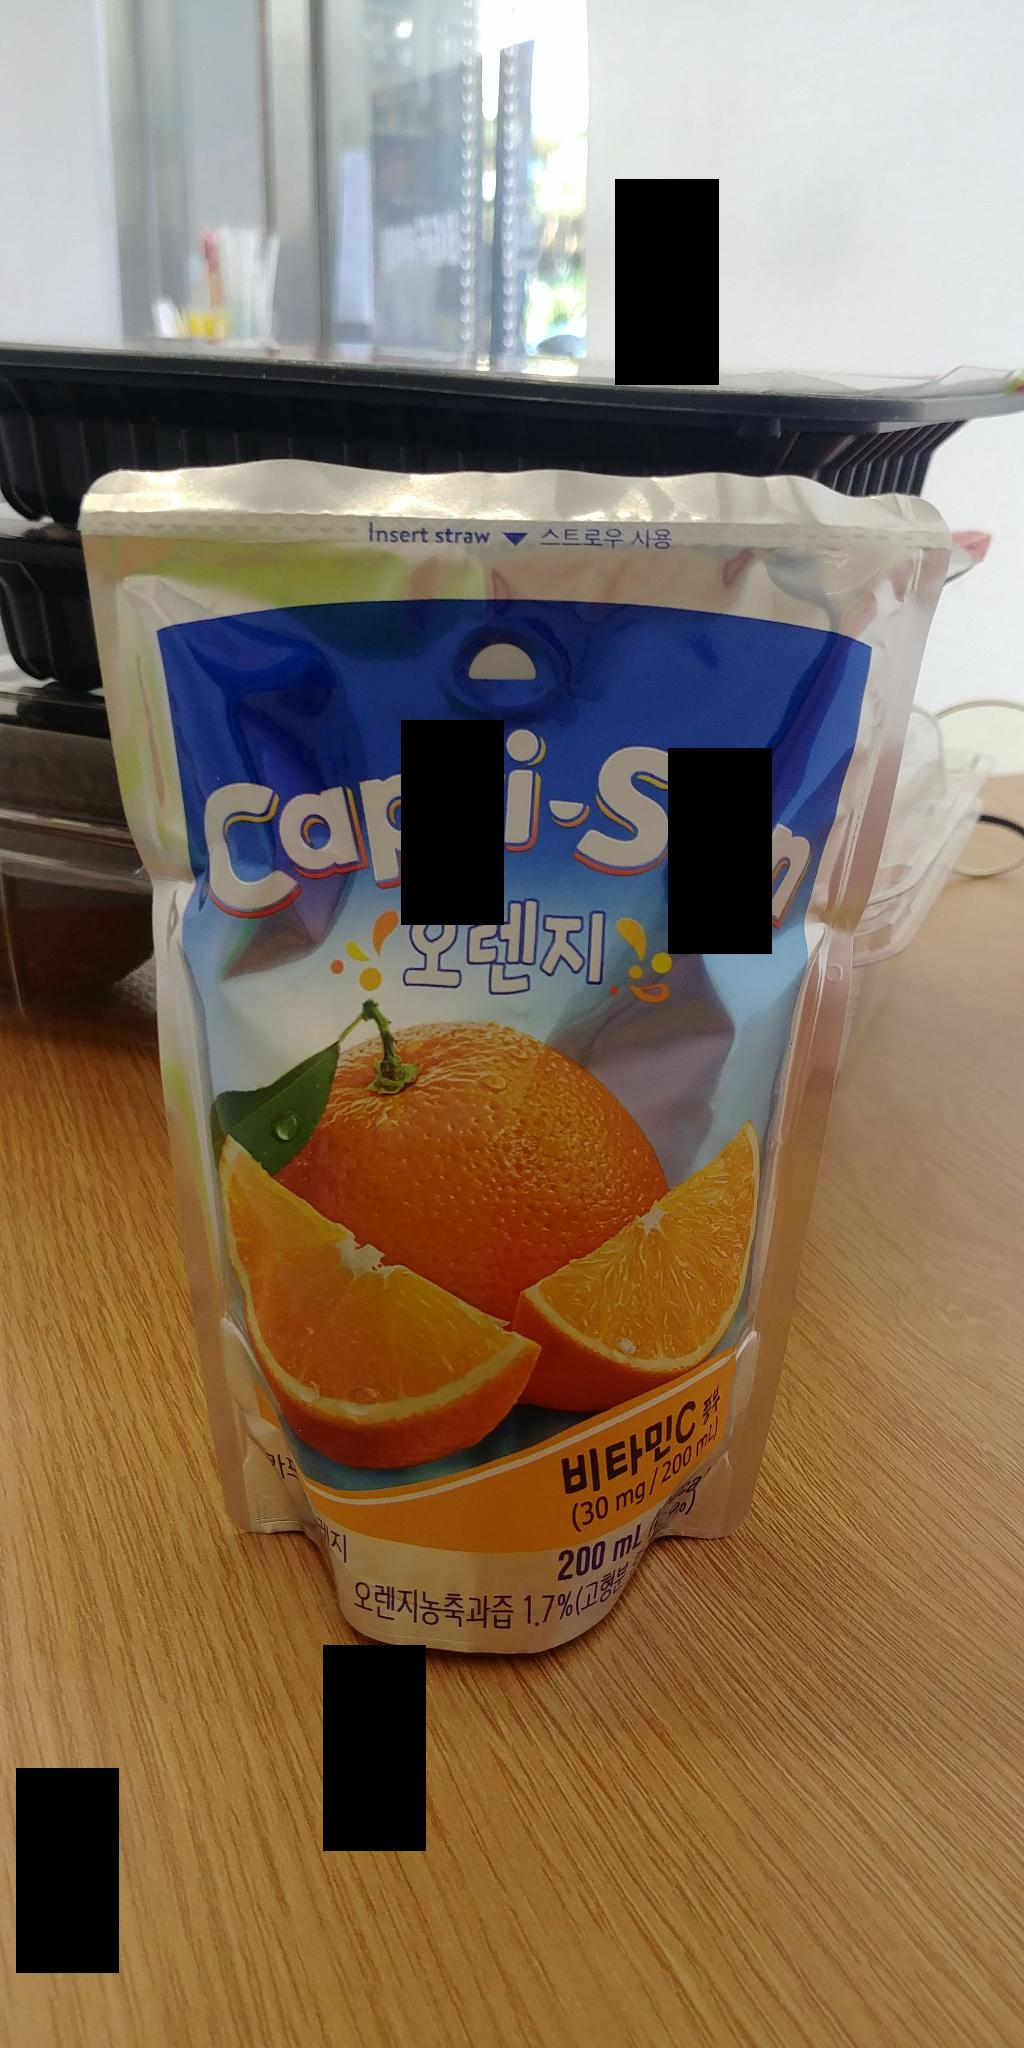cafrisun: (54, 415, 967, 1723)
